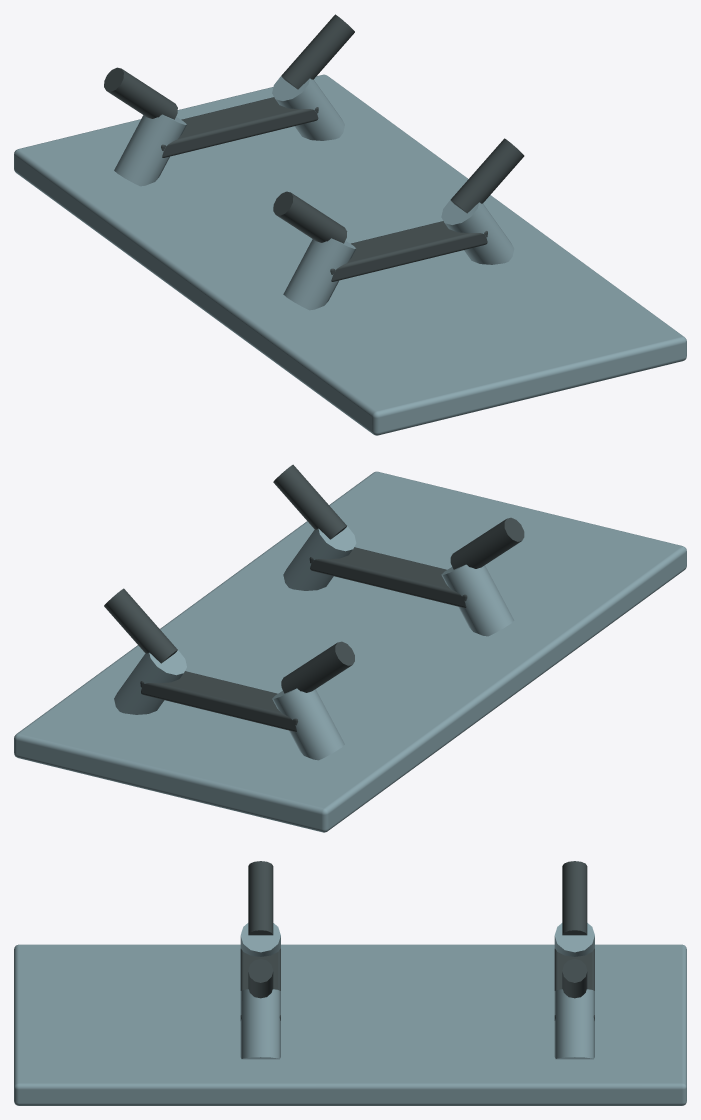
The model's file is abandoned-tidal-model-testing-hall-model-hull-cradle-feaf09cd__32358.glb.
The picture shows the model from 3 angles, top to bottom: view 1: azimuth 30°, elevation 25°; view 2: azimuth 150°, elevation 25°; view 3: azimuth 270°, elevation 25°; orthographic projection. The views are drawn at different scales.
Parts seen in each view (by area): view 1: model-hull-cradle; view 2: model-hull-cradle; view 3: model-hull-cradle.
Part boxes in pixels (bbox=[...]): model-hull-cradle: bbox=[14, 14, 686, 435]; model-hull-cradle: bbox=[14, 464, 686, 832]; model-hull-cradle: bbox=[14, 861, 686, 1105].
Size of the model in its own units: 0.7501 by 0.3113 by 1.5.
